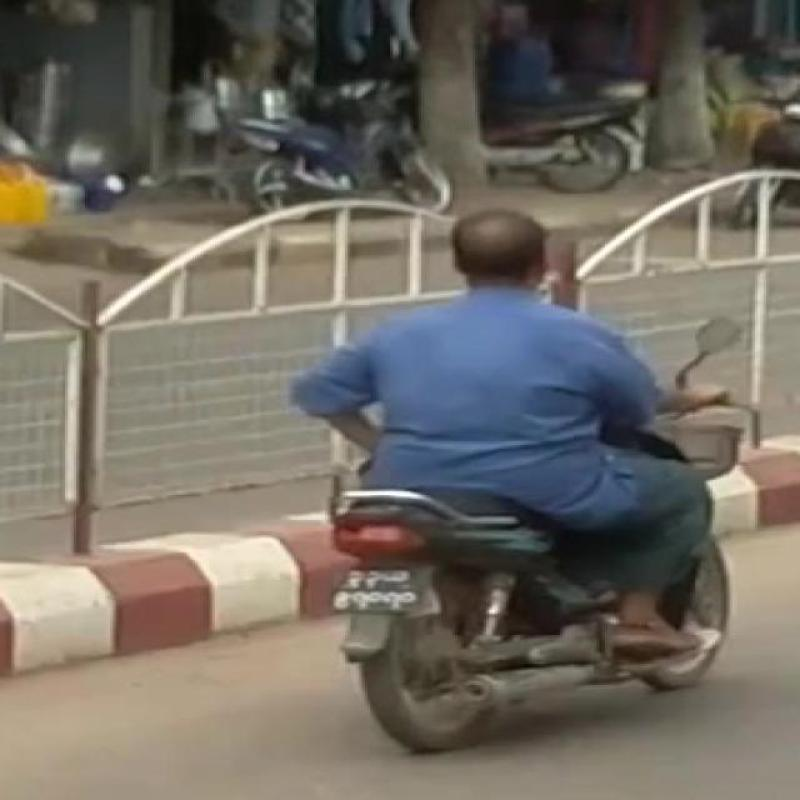nohelmet: (434, 172, 575, 278)
